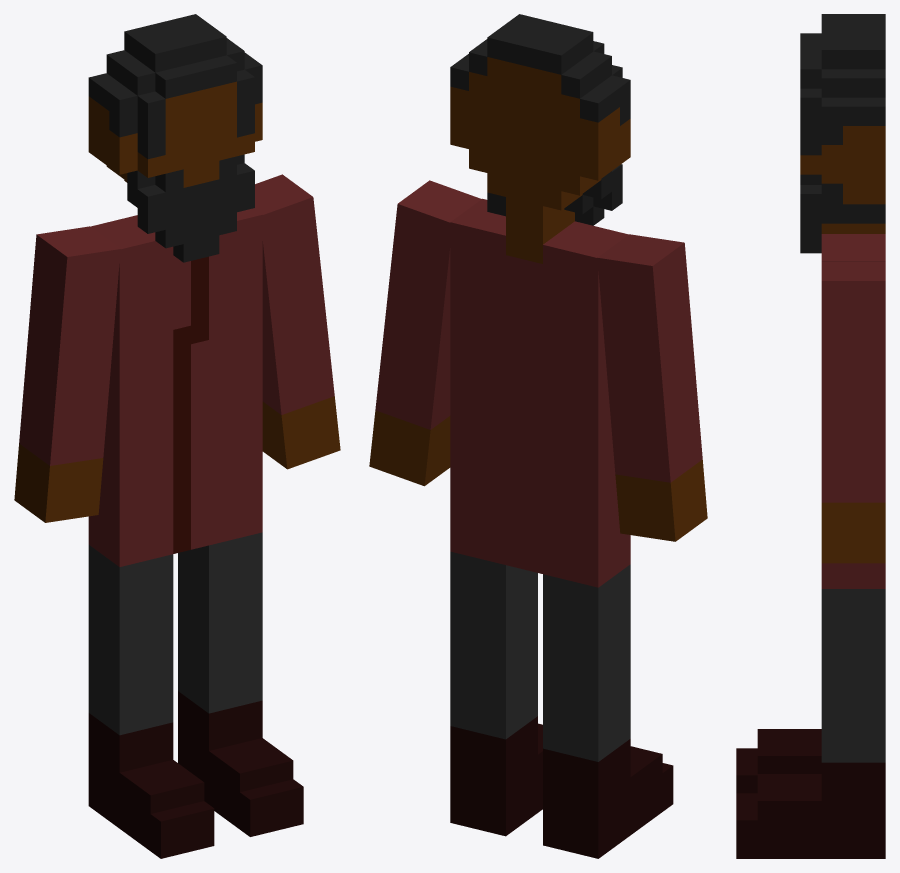
File: NPC_male_02.fbx
3 renders of one model, left to right at view 1: azimuth 30°, elevation 25°; view 2: azimuth 150°, elevation 25°; view 3: azimuth 270°, elevation 25°, orthographic. The views are drawn at different scales.
Visible parts, largest first — view 1: NPC_male_02; view 2: NPC_male_02; view 3: NPC_male_02.
Part boxes in pixels (x1,y1,x2,y2): NPC_male_02: (14,14,340,858); NPC_male_02: (369,14,707,858); NPC_male_02: (736,14,885,858).
Size of the model in its own units: 72.27 by 179 by 30.58.
